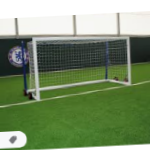goals: (24, 34, 133, 101)
